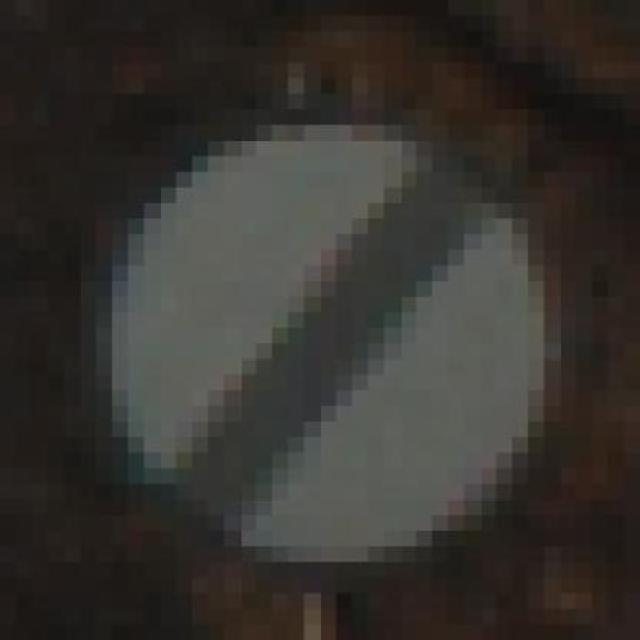End of all speed and passing limits: (49, 109, 576, 562)
